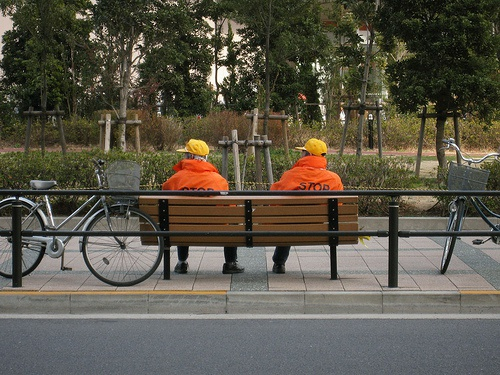non-vehicle: (1, 161, 162, 287), (439, 137, 500, 272)
